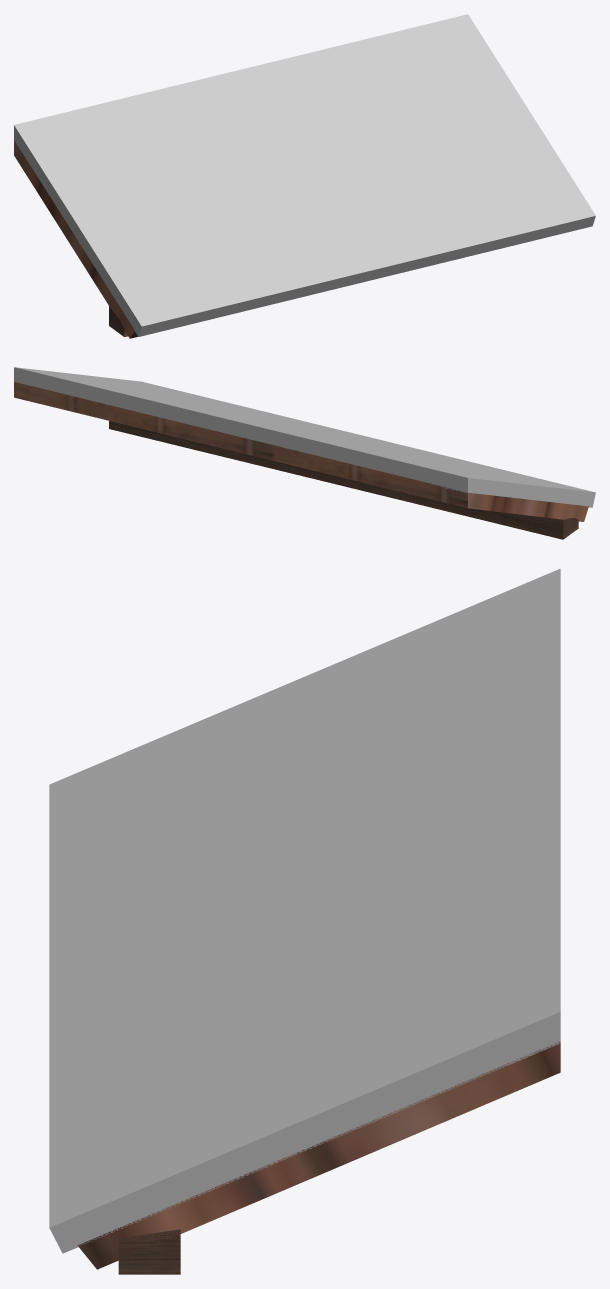
Rendered from kawara_1x0t_a1middle.fbx.
3 views of the same model, one above another, from view 1: azimuth 30°, elevation 25°; view 2: azimuth 150°, elevation 25°; view 3: azimuth 270°, elevation 25° (orthographic). The views are drawn at different scales.
Parts seen in each view (by area): view 1: kawara_1x0t_a1middle; view 2: kawara_1x0t_a1middle; view 3: kawara_1x0t_a1middle.
Boxes of the visible parts, <box> form: kawara_1x0t_a1middle: <box>14,14,595,338</box>; kawara_1x0t_a1middle: <box>14,367,595,539</box>; kawara_1x0t_a1middle: <box>49,568,560,1274</box>.
Bounding box in the file's own units: 220 × 60.83 × 107.
